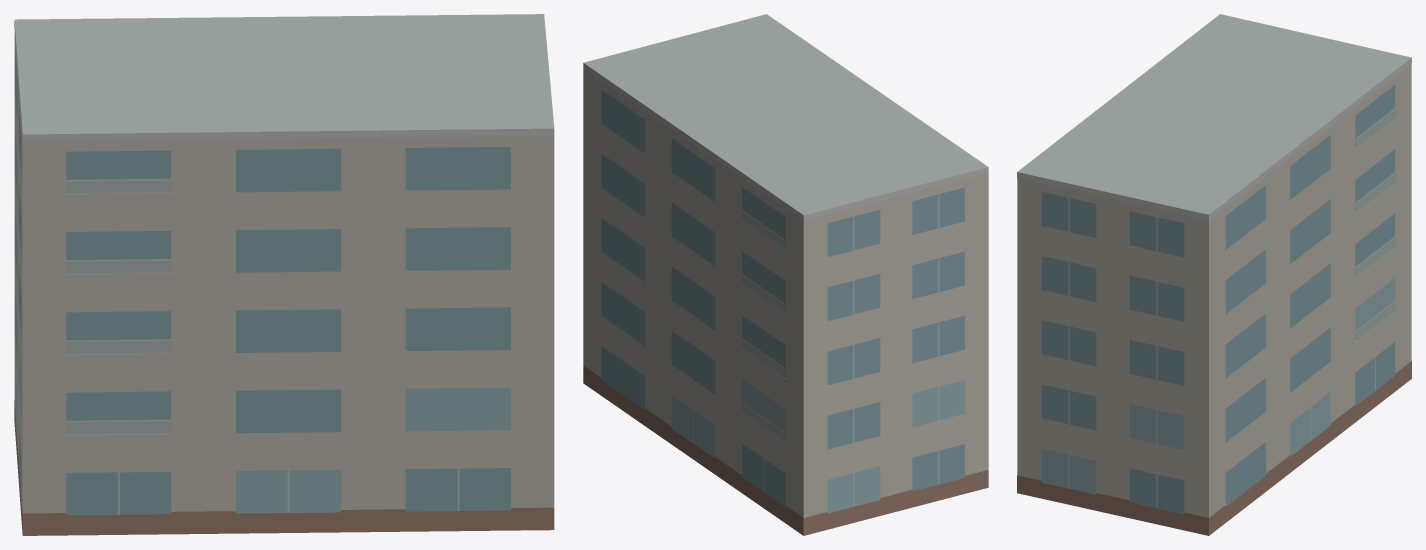
The model's file is survey-upis-32981912.glb.
3 views of the same model, side by side, from view 1: azimuth 30°, elevation 25°; view 2: azimuth 150°, elevation 25°; view 3: azimuth 270°, elevation 25° (orthographic). The views are drawn at different scales.
Parts seen in each view (by area): view 1: survey-upis-32981912.tmp; view 2: survey-upis-32981912.tmp; view 3: survey-upis-32981912.tmp.
Boxes of the visible parts, x1,y1,x2,y2 form: survey-upis-32981912.tmp: [14, 14, 554, 535]; survey-upis-32981912.tmp: [583, 14, 988, 535]; survey-upis-32981912.tmp: [1017, 14, 1411, 535].
Bounding box in the file's own units: 18.65 × 13.9 × 15.49.
